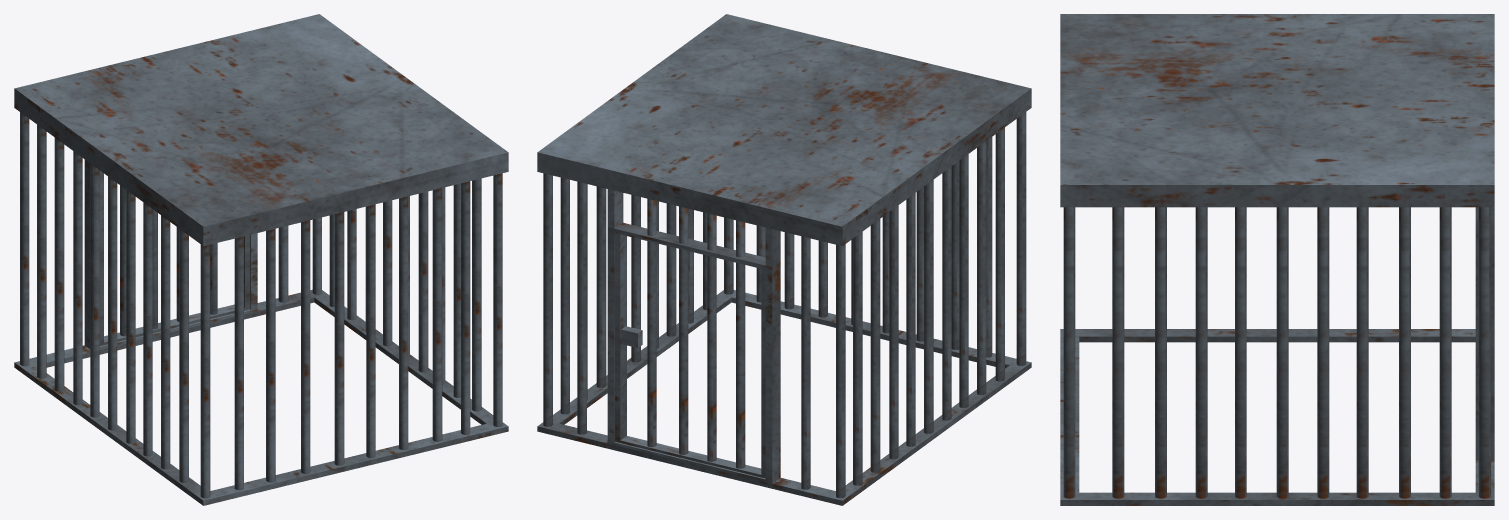
The model's file is MetalCage.fbx.
3 views of the same model, side by side, from view 1: azimuth 30°, elevation 25°; view 2: azimuth 150°, elevation 25°; view 3: azimuth 270°, elevation 25° (orthographic). The views are drawn at different scales.
Parts seen in each view (by area): view 1: CAGE_BASE, CAGE_BASE.017, CAGE_BASE.032, CAGE_BASE.035, CAGE_BASE.009, CAGE_BASE.029, CAGE_BASE.028, CAGE_BASE.030, CAGE_BASE.031, CAGE_BASE.033, CAGE_BASE.034, CAGE_BASE.036 (+21 smaller); view 2: CAGE_BASE, CAGE_BASE.017, CAGE_BASE.009, CAGE_BASE.006, CAGE_BASE.018, CAGE_BASE.005, CAGE_BASE.037, CAGE_BASE.015, CAGE_BASE.007, CAGE_BASE.010, CAGE_BASE.011, CAGE_BASE.012 (+19 smaller); view 3: CAGE_BASE, CAGE_BASE.019, CAGE_BASE.021, CAGE_BASE.022, CAGE_BASE.023, CAGE_BASE.025, CAGE_BASE.027, CAGE_BASE.028, CAGE_BASE.020, CAGE_BASE.026, CAGE_BASE.018, CAGE_BASE.024.
Part boxes in pixels (x1,y1,x2,y2): CAGE_BASE: [14, 14, 508, 505]; CAGE_BASE.017: [200, 244, 210, 498]; CAGE_BASE.032: [334, 212, 344, 465]; CAGE_BASE.035: [432, 188, 442, 441]; CAGE_BASE.009: [54, 137, 64, 391]; CAGE_BASE.029: [234, 236, 243, 490]; CAGE_BASE.028: [493, 173, 502, 426]; CAGE_BASE.030: [266, 228, 275, 482]; CAGE_BASE.031: [301, 220, 310, 473]; CAGE_BASE.033: [366, 204, 375, 457]; CAGE_BASE.034: [399, 196, 408, 449]; CAGE_BASE.036: [461, 181, 470, 434]; CAGE_BASE: [537, 14, 1031, 505]; CAGE_BASE.017: [1016, 112, 1026, 365]; CAGE_BASE.009: [870, 219, 880, 472]; CAGE_BASE.006: [836, 244, 845, 498]; CAGE_BASE.018: [543, 173, 552, 426]; CAGE_BASE.005: [801, 236, 810, 489]; CAGE_BASE.037: [577, 181, 586, 434]; CAGE_BASE.015: [977, 141, 986, 395]; CAGE_BASE.007: [853, 232, 862, 485]; CAGE_BASE.010: [889, 205, 898, 459]; CAGE_BASE.011: [906, 193, 915, 446]; CAGE_BASE.012: [924, 180, 933, 433]; CAGE_BASE: [1060, 14, 1494, 505]; CAGE_BASE.019: [1439, 207, 1451, 498]; CAGE_BASE.021: [1356, 207, 1368, 498]; CAGE_BASE.022: [1317, 207, 1329, 498]; CAGE_BASE.023: [1276, 207, 1288, 498]; CAGE_BASE.025: [1195, 207, 1207, 498]; CAGE_BASE.027: [1112, 207, 1124, 498]; CAGE_BASE.028: [1063, 207, 1075, 498]; CAGE_BASE.020: [1399, 207, 1410, 498]; CAGE_BASE.026: [1155, 207, 1166, 498]; CAGE_BASE.018: [1479, 207, 1490, 498]; CAGE_BASE.024: [1235, 207, 1246, 498].
Bounding box in the file's own units: 230 × 201 × 247.
1 material, 1 textured.
